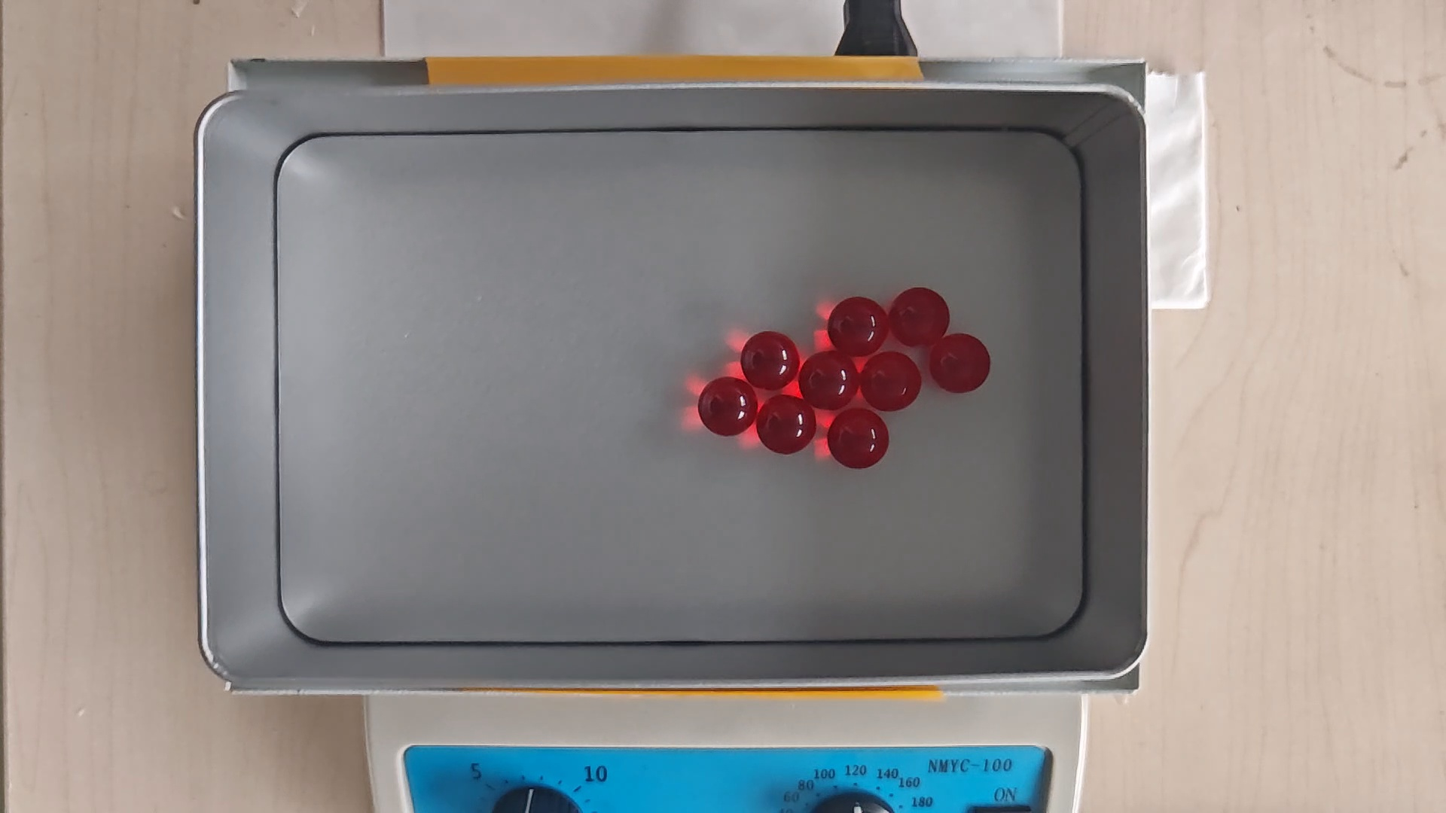ball: (829, 408, 889, 470), (697, 376, 758, 436), (890, 288, 950, 348), (828, 295, 887, 356), (862, 352, 921, 412), (931, 334, 990, 394), (757, 395, 815, 455), (800, 352, 860, 410), (742, 330, 799, 391)
container: (277, 129, 1084, 643)
